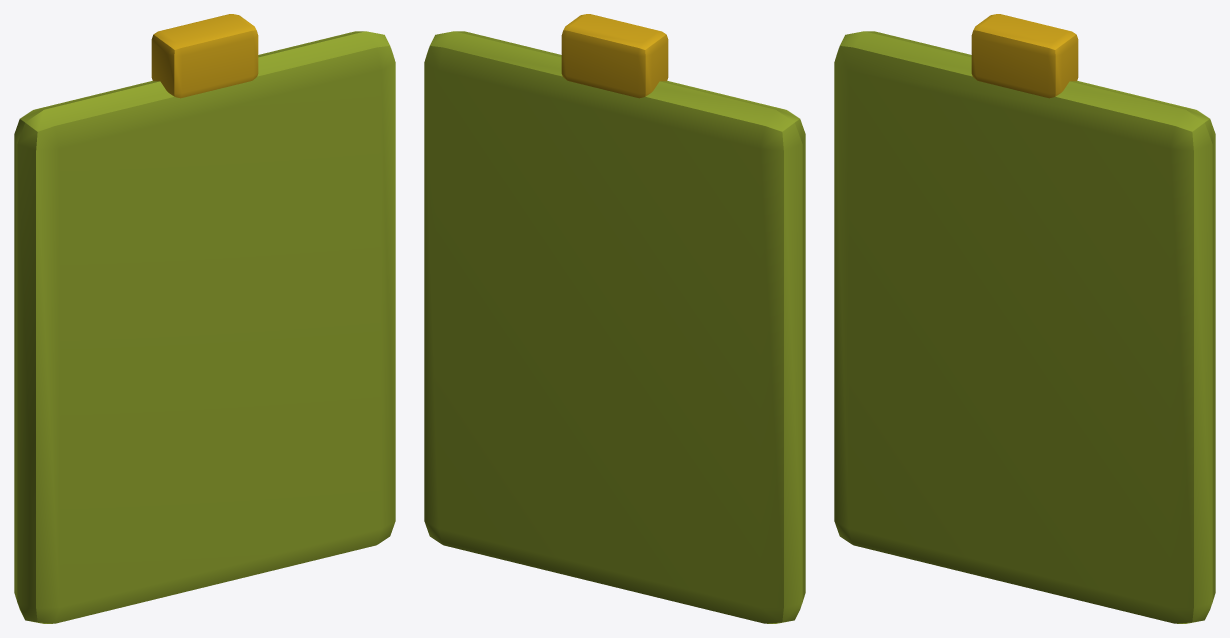
File: equip_cape.glb
3 renders of one model, left to right at view 1: azimuth 30°, elevation 25°; view 2: azimuth 150°, elevation 25°; view 3: azimuth 330°, elevation 25°, orthographic.
Parts seen in each view (by area): view 1: cape, cape_clasp; view 2: cape, cape_clasp; view 3: cape, cape_clasp.
Boxes of the visible parts, x1,y1,x2,y2 form: cape: [14, 31, 395, 623]; cape_clasp: [151, 14, 258, 98]; cape: [424, 31, 805, 623]; cape_clasp: [561, 14, 668, 98]; cape: [834, 31, 1215, 623]; cape_clasp: [971, 14, 1078, 98].
Bounding box in the file's own units: 0.42 × 0.595 × 0.06.
